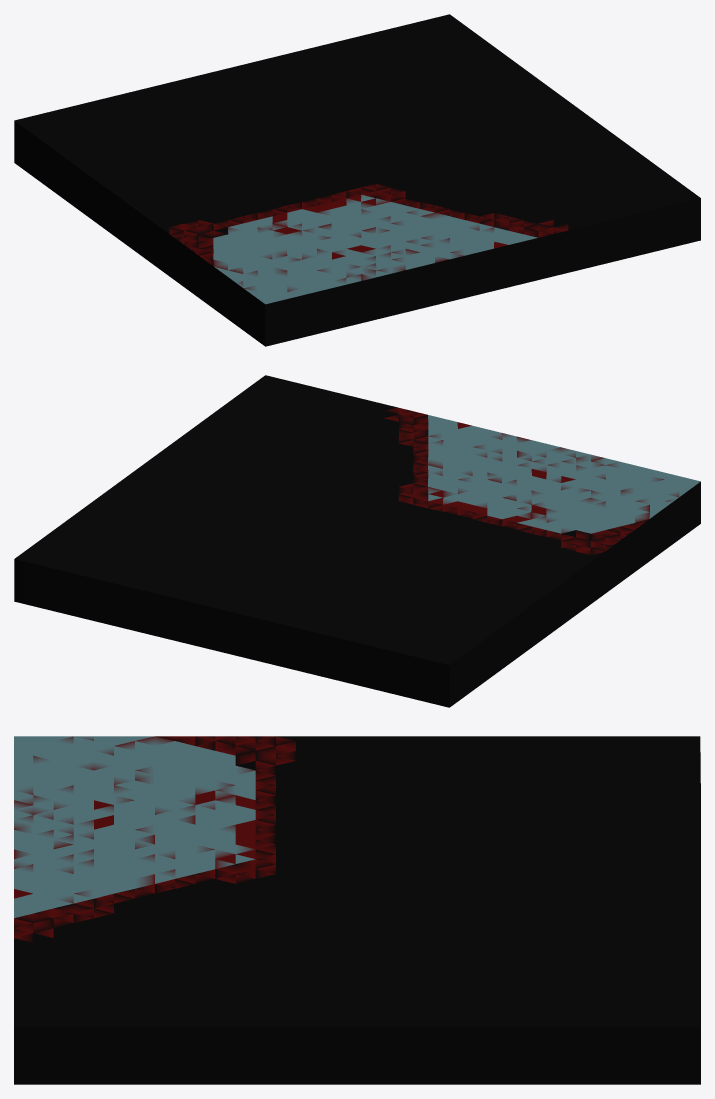
File: 0010_paradiceIsland_water.fbx
3 renders of one model, top to bottom at view 1: azimuth 30°, elevation 25°; view 2: azimuth 150°, elevation 25°; view 3: azimuth 270°, elevation 25°, orthographic. The views are drawn at different scales.
Visible parts, largest first — view 1: [water]; view 2: [water]; view 3: [water].
Part boxes in pixels (<box>): [water]: <box>14,14,700,346</box>; [water]: <box>14,375,700,707</box>; [water]: <box>14,736,700,1084</box>.
Bounding box in the file's own units: 227 × 21.06 × 227.
